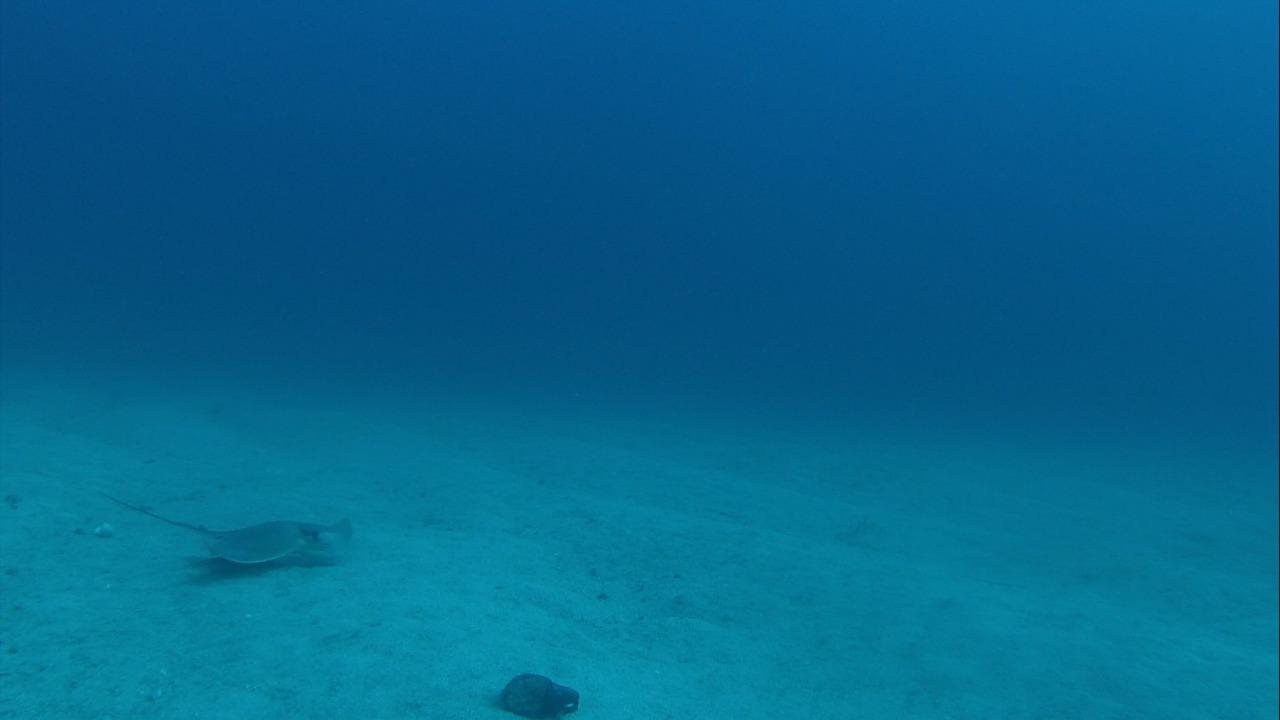myliobatis: (81, 487, 362, 577)
